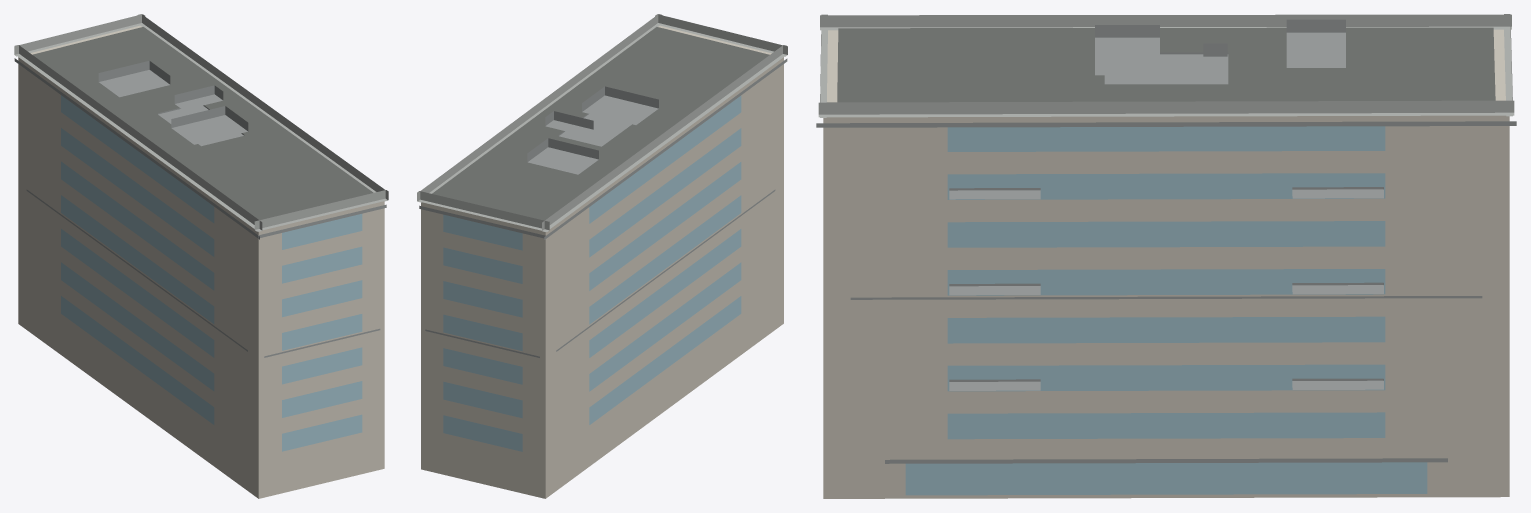
File: tile-m004-m001.glb
The picture shows the model from 3 angles, left to right: view 1: azimuth 30°, elevation 25°; view 2: azimuth 150°, elevation 25°; view 3: azimuth 270°, elevation 25°; orthographic projection. The views are drawn at different scales.
Parts seen in each view (by area): view 1: building-0027-mesh-0, building-0027-mesh-1, building-0027-mesh-4, building-0027-mesh-5, building-0027-mesh-6, building-0027-mesh-2; view 2: building-0027-mesh-0, building-0027-mesh-1, building-0027-mesh-4, building-0027-mesh-5, building-0027-mesh-6, building-0027-mesh-2; view 3: building-0027-mesh-0, building-0027-mesh-1, building-0027-mesh-4, building-0027-mesh-5, building-0027-mesh-6, building-0027-mesh-2, building-0027-mesh-3.
Boxes of the visible parts, x1,y1,x2,y2 form: building-0027-mesh-0: (18, 25, 384, 498); building-0027-mesh-1: (61, 95, 362, 451); building-0027-mesh-4: (32, 27, 373, 220); building-0027-mesh-5: (14, 14, 388, 231); building-0027-mesh-6: (98, 60, 248, 146); building-0027-mesh-2: (14, 58, 386, 357); building-0027-mesh-0: (421, 25, 783, 498); building-0027-mesh-1: (443, 95, 741, 451); building-0027-mesh-4: (432, 27, 769, 220); building-0027-mesh-5: (417, 14, 787, 231); building-0027-mesh-6: (527, 86, 658, 174); building-0027-mesh-2: (419, 58, 787, 357); building-0027-mesh-0: (823, 29, 1509, 498); building-0027-mesh-1: (905, 126, 1427, 495); building-0027-mesh-4: (837, 27, 1495, 102); building-0027-mesh-5: (818, 14, 1514, 117); building-0027-mesh-6: (1095, 19, 1345, 84); building-0027-mesh-2: (816, 121, 1516, 463); building-0027-mesh-3: (949, 187, 1383, 390).
Size of the model in its own units: 15.02 by 28.55 by 44.4.
